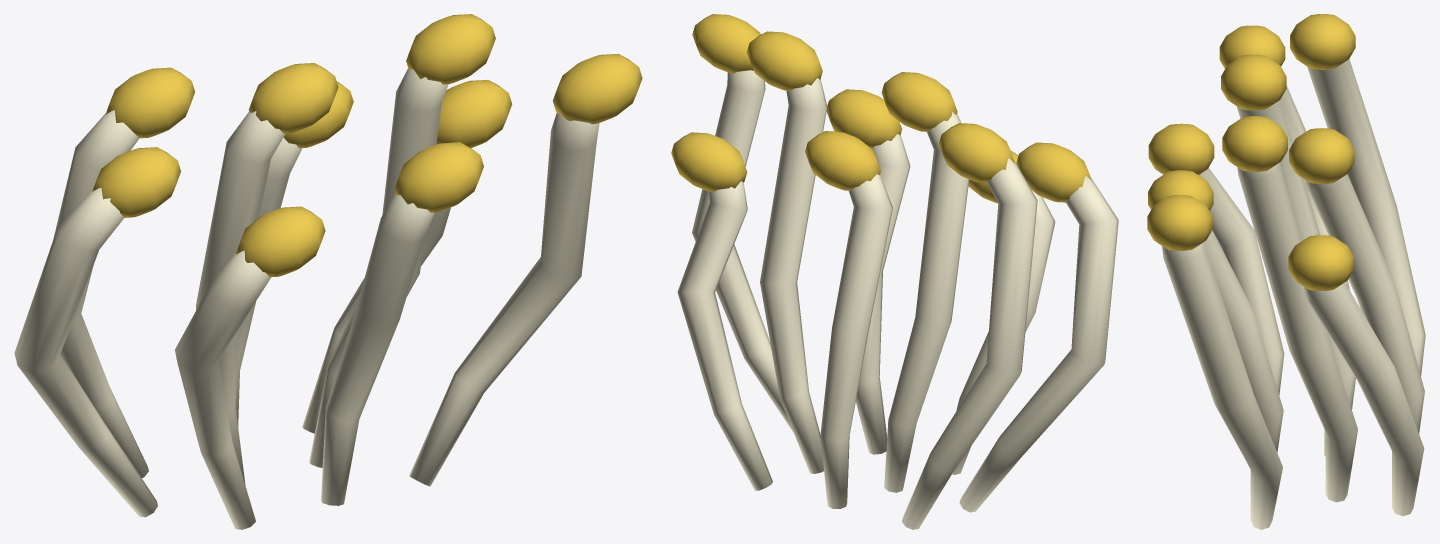
File: bean-sprout.glb
3 renders of one model, left to right at view 1: azimuth 30°, elevation 25°; view 2: azimuth 150°, elevation 25°; view 3: azimuth 270°, elevation 25°, orthographic. The views are drawn at different scales.
Parts seen in each view (by area): view 1: bean-sprout; view 2: bean-sprout; view 3: bean-sprout.
Boxes of the visible parts, x1,y1,x2,y2 form: bean-sprout: [14, 14, 642, 529]; bean-sprout: [671, 14, 1118, 529]; bean-sprout: [1147, 14, 1425, 529].
Bounding box in the file's own units: 0.5321 × 0.428 × 0.2564.
